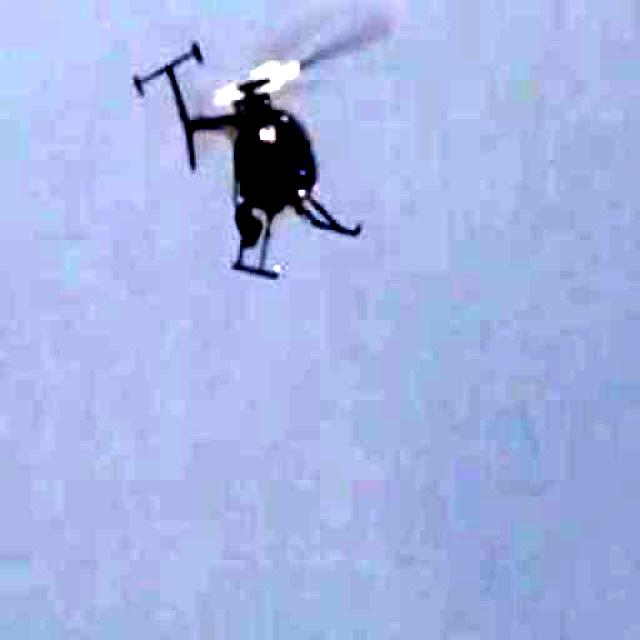drone: (122, 0, 406, 302)
